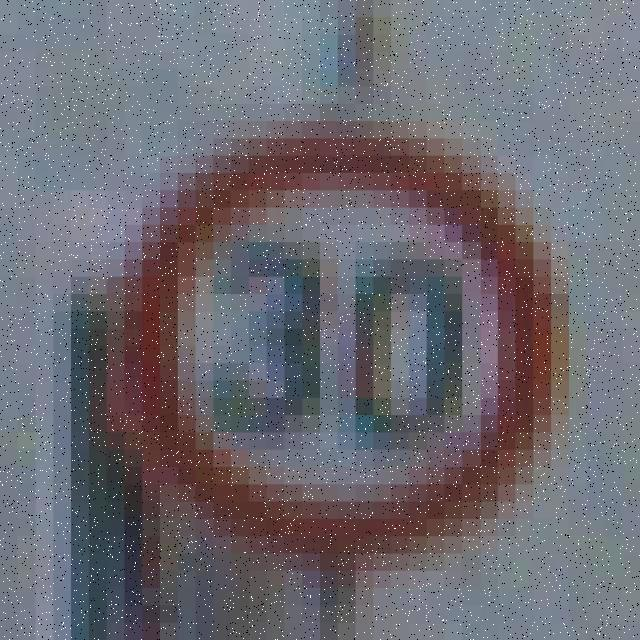Ograniczenie predkosci do 30: (128, 132, 556, 548)
